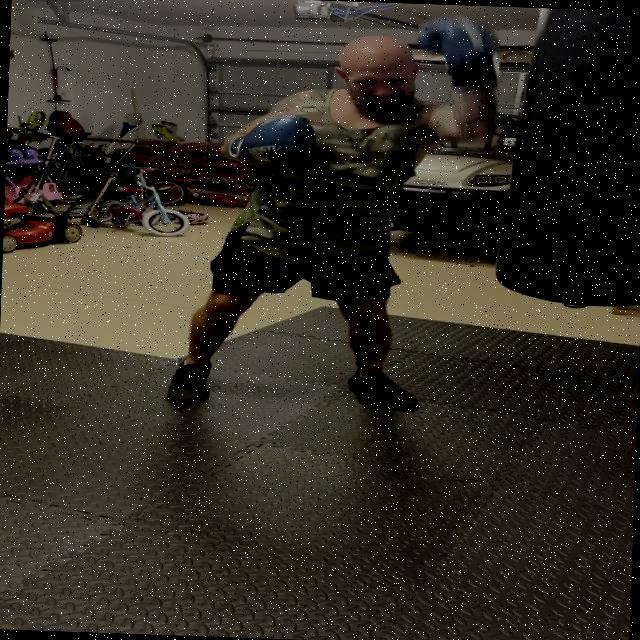punch: (231, 2, 511, 200)
